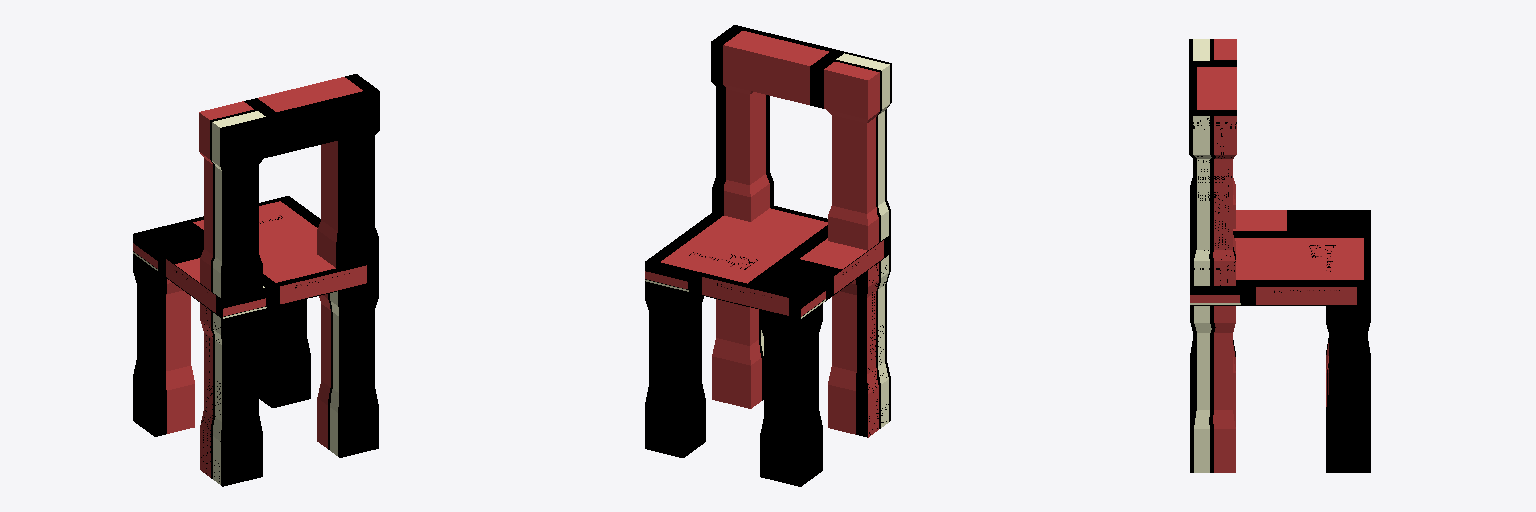
3 renders of one model, left to right at view 1: azimuth 30°, elevation 25°; view 2: azimuth 150°, elevation 25°; view 3: azimuth 270°, elevation 25°, orthographic.
Visible parts, largest first — view 1: Chair; view 2: Chair; view 3: Chair.
Part boxes in pixels (x1,y1,x2,y2): Chair: (133,74,379,486); Chair: (645,25,891,486); Chair: (1189,39,1370,472).
Bounding box in the file's own units: 20.21 × 43.83 × 20.1.
1 materials, 1 textured.